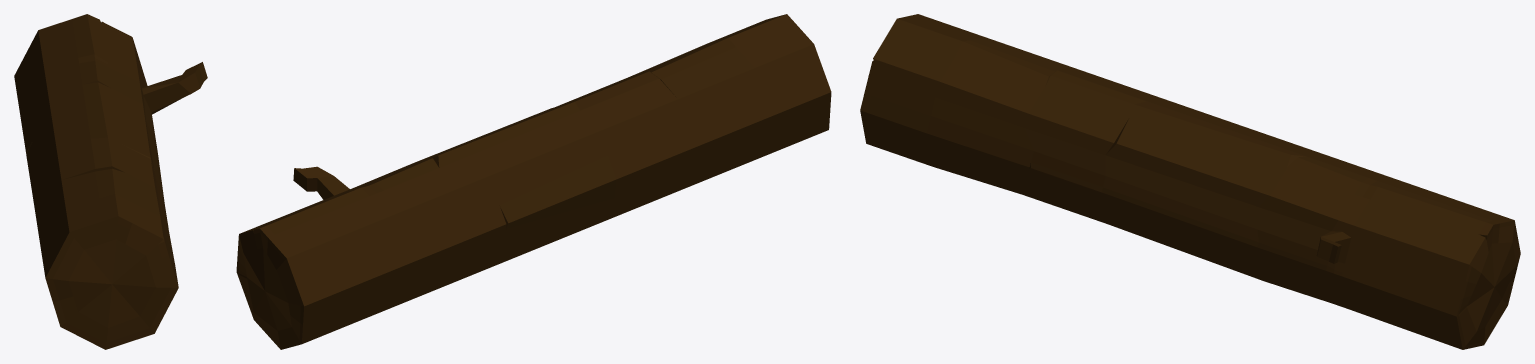
File: Tronco.gltf
The picture shows the model from 3 angles, left to right: view 1: azimuth 30°, elevation 25°; view 2: azimuth 150°, elevation 25°; view 3: azimuth 270°, elevation 25°; orthographic projection. The views are drawn at different scales.
Visible parts, largest first — view 1: Tronco 01; view 2: Tronco 01; view 3: Tronco 01.
Boxes of the visible parts, <box> form: Tronco 01: <box>14,14,207,349</box>; Tronco 01: <box>236,14,831,349</box>; Tronco 01: <box>860,14,1520,349</box>.
Size of the model in its own units: 0.2558 by 0.1353 by 0.3942.
